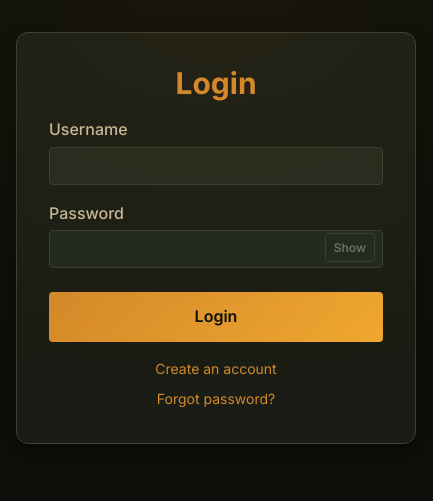
Test case: LoginForm › shows error message when login fails
Type "dinoking" into the field labelled "Username" at (216, 166), box [49,147,383,185]
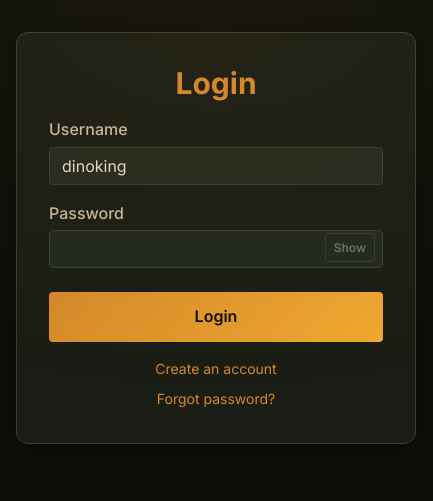
Type "wrongpass" into the password field labelled "Password" at (216, 249), box [49,230,383,268]
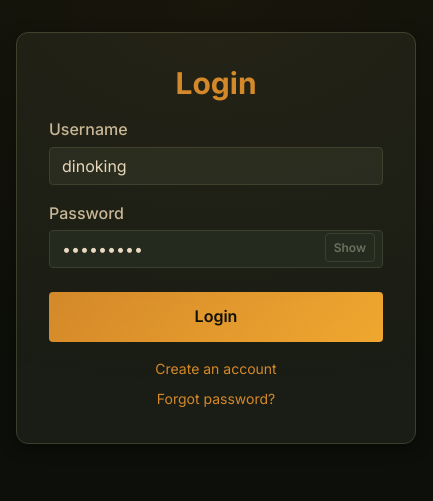
Click the button "Login" at (216, 317), box [49,292,383,342]
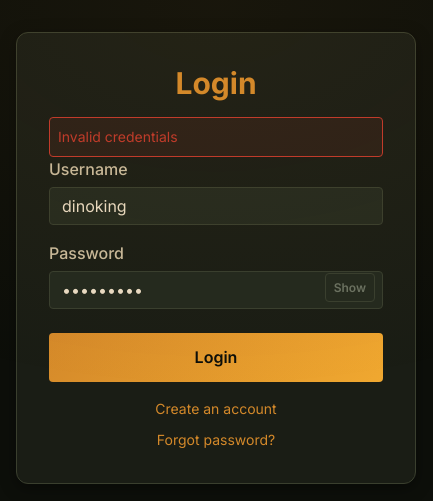
Expected: the message reads "Invalid credentials", [58,128,178,145]
